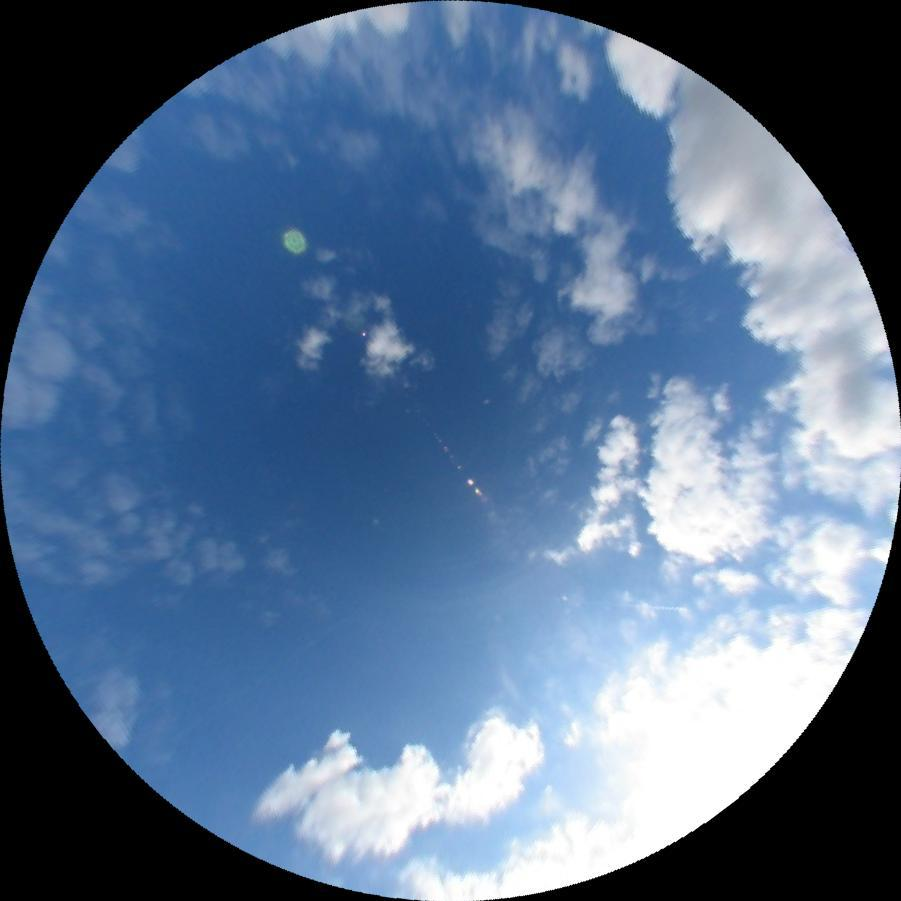contrail young: (584, 599, 686, 610)
sun: (643, 641, 836, 831)
